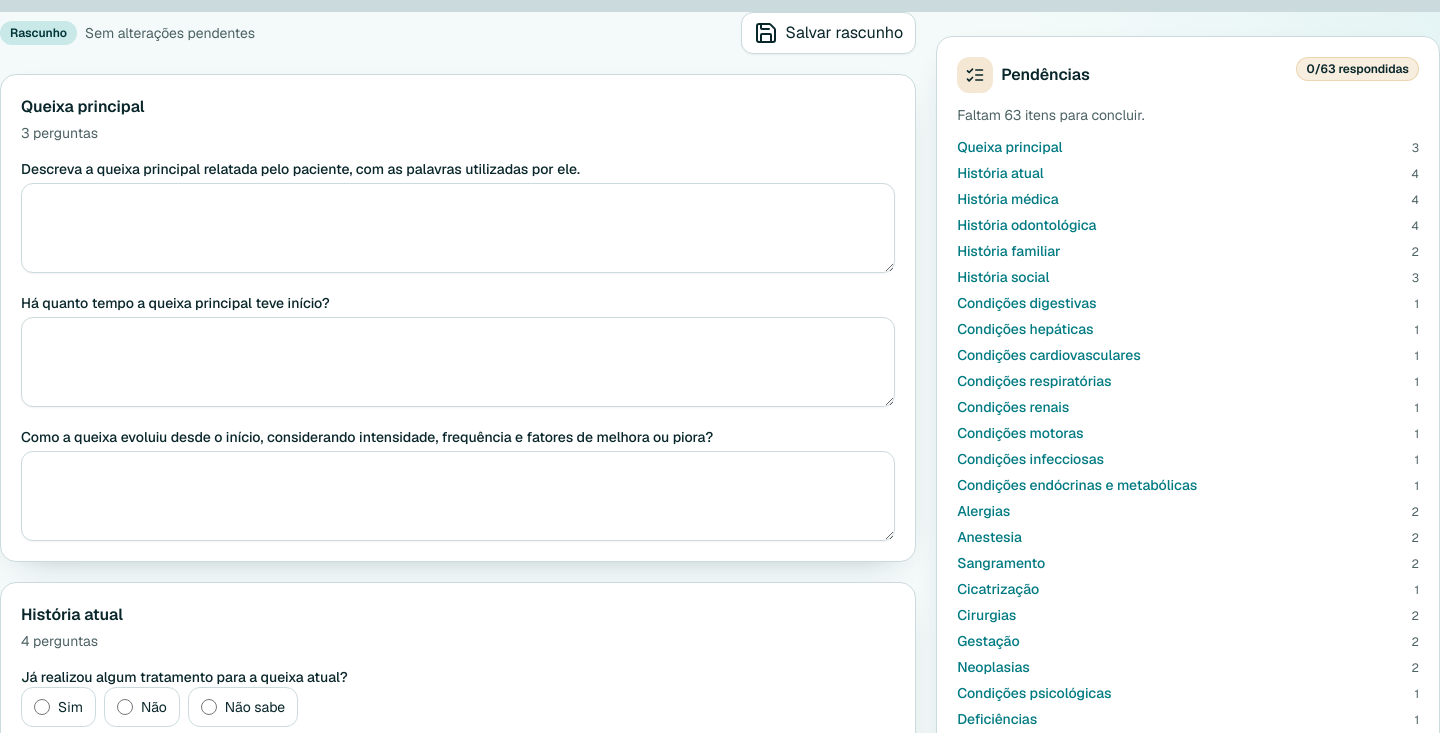
Scenario: AnamnesisForm › shows the permission message when saving fails
The width and height of the screenshot is (1440, 733).
Click the button "Salvar rascunho" at (828, 33), box [741,12,916,54]
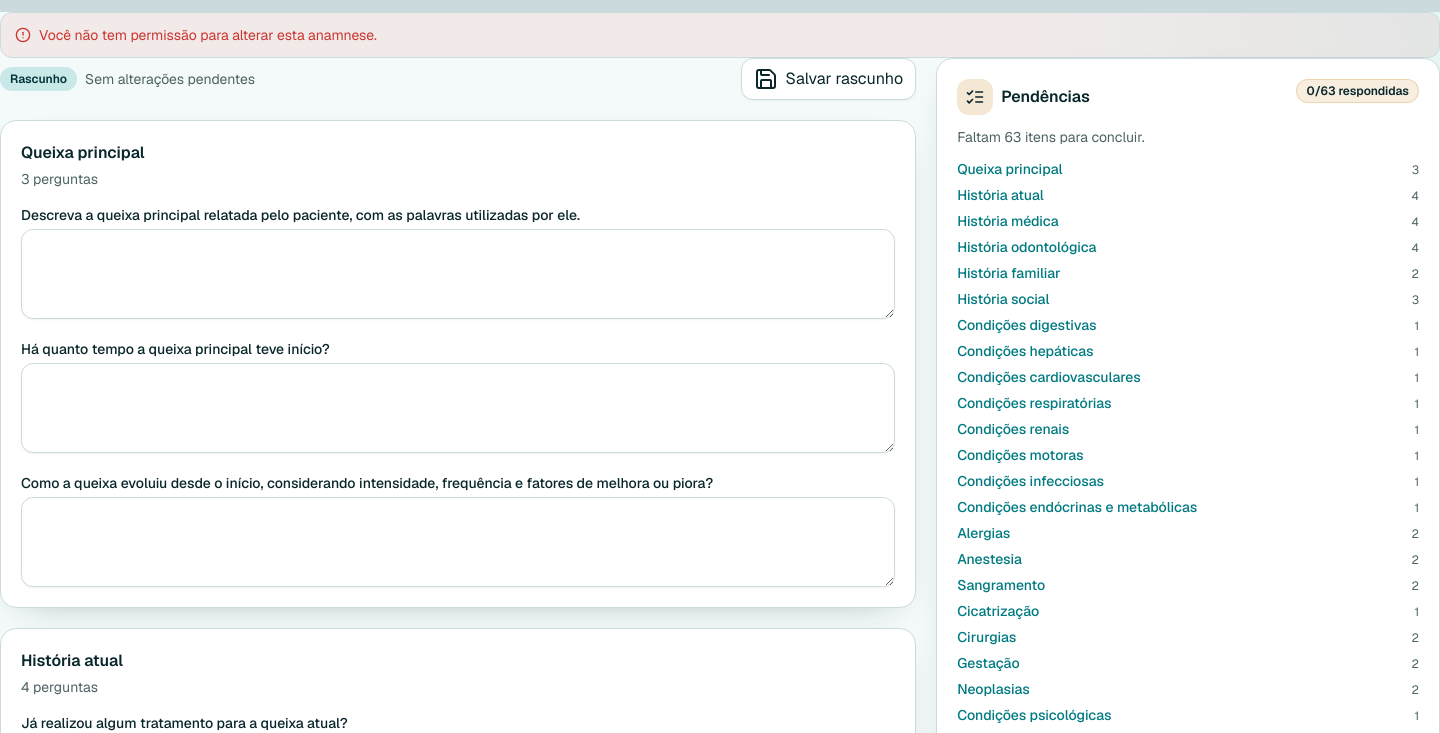
Check: the message reads "Você não tem permissão para alterar esta anamnese.", box [39,26,377,44]
